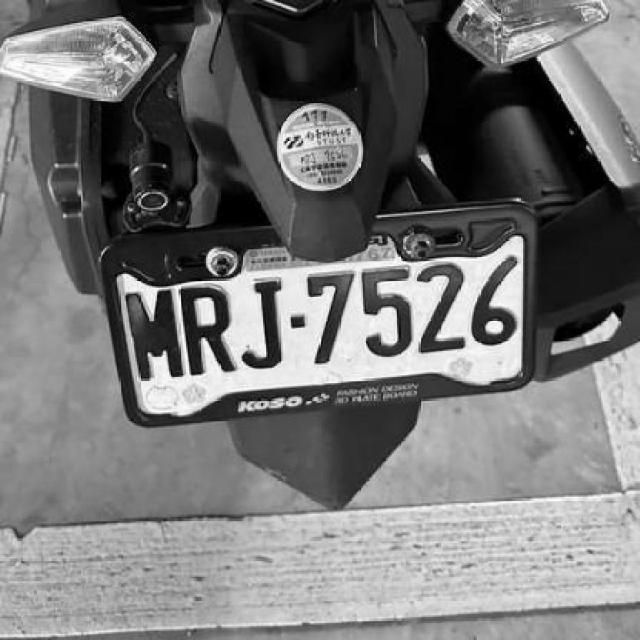-: (291, 310, 306, 328)
2: (417, 257, 468, 354)
5: (357, 263, 414, 359)
6: (468, 252, 520, 350)
7: (304, 266, 354, 365)
J: (235, 278, 288, 371)
M: (122, 284, 185, 383)
R: (175, 279, 237, 379)
